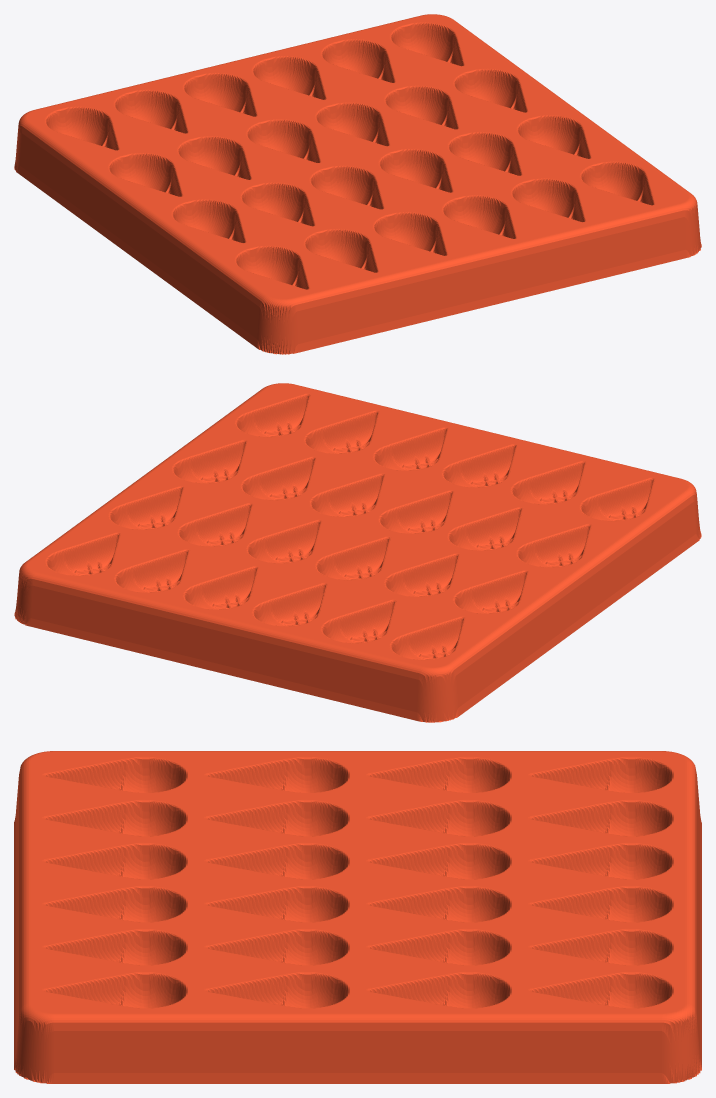
File: mold.glb
The picture shows the model from 3 angles, top to bottom: view 1: azimuth 30°, elevation 25°; view 2: azimuth 150°, elevation 25°; view 3: azimuth 270°, elevation 25°; orthographic projection. The views are drawn at different scales.
Parts seen in each view (by area): view 1: geometry_0; view 2: geometry_0; view 3: geometry_0.
Boxes of the visible parts, x1,y1,x2,y2 form: geometry_0: (14, 14, 701, 354); geometry_0: (14, 383, 701, 722); geometry_0: (14, 751, 701, 1083).
Size of the model in its own units: 0.1478 by 0.0159 by 0.1561.
